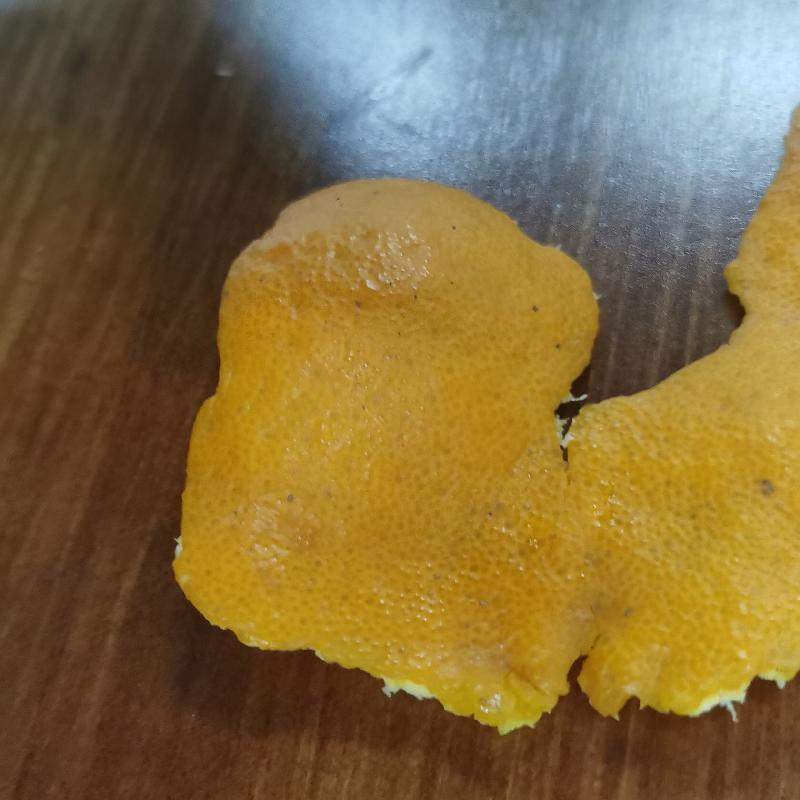orange: (170, 111, 800, 724)
